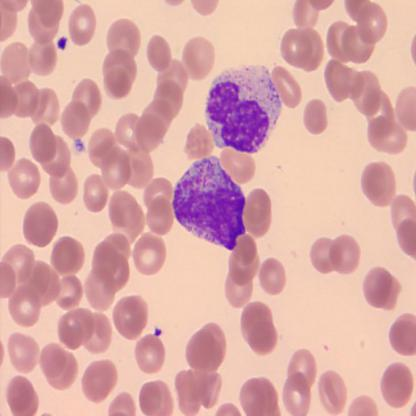Myelocyte: (206, 59, 282, 153), (174, 157, 248, 249)
